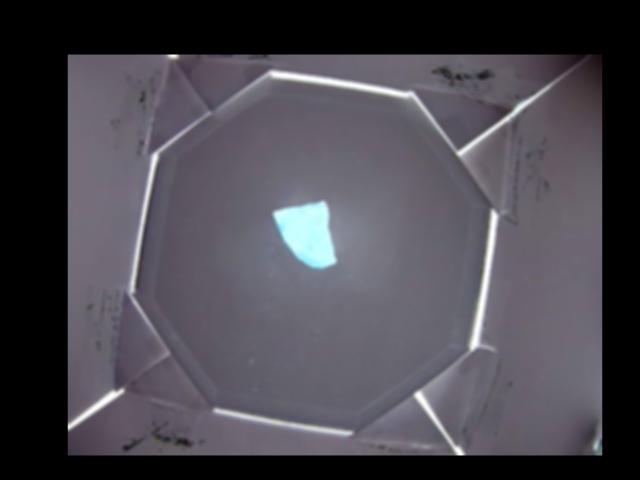Brisk: (270, 199, 336, 267)
